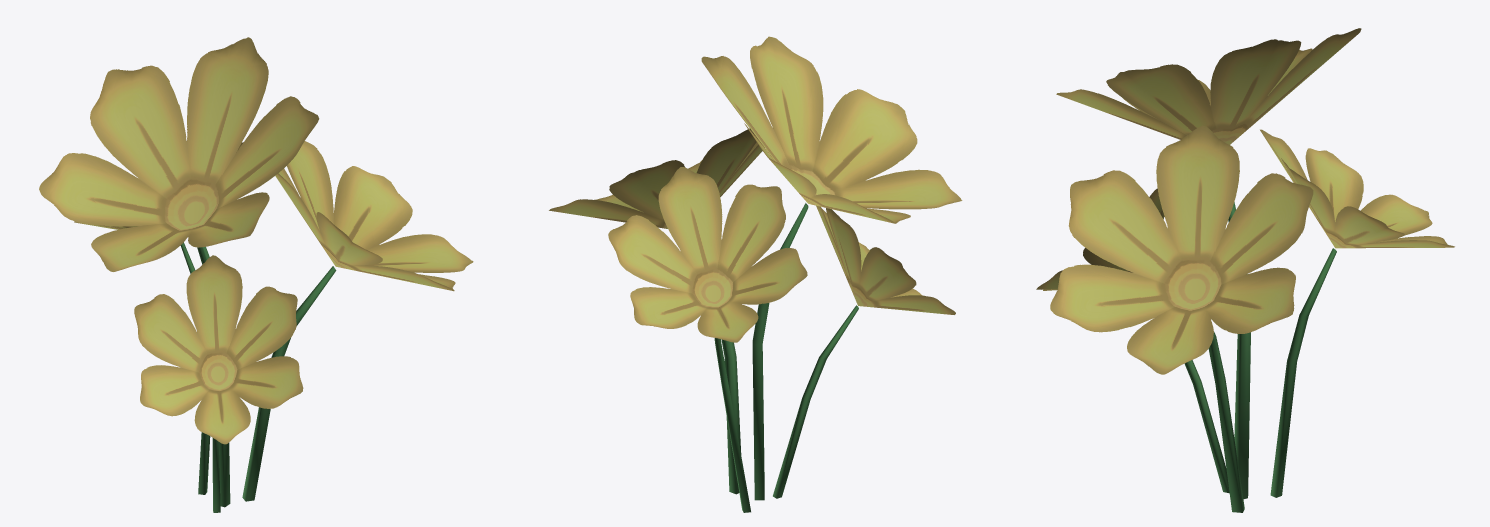
The model's file is flower_2_clump.gltf.
The picture shows the model from 3 angles, left to right: view 1: azimuth 30°, elevation 25°; view 2: azimuth 150°, elevation 25°; view 3: azimuth 270°, elevation 25°; orthographic projection. The views are drawn at different scales.
Parts seen in each view (by area): view 1: Flower_2_Clump; view 2: Flower_2_Clump; view 3: Flower_2_Clump.
Boxes of the visible parts, <box> form: Flower_2_Clump: <box>39,37,473,512</box>; Flower_2_Clump: <box>549,36,962,512</box>; Flower_2_Clump: <box>1036,28,1454,512</box>.
Size of the model in its own units: 0.426 by 0.4508 by 0.3735.
1 material, 1 textured.
